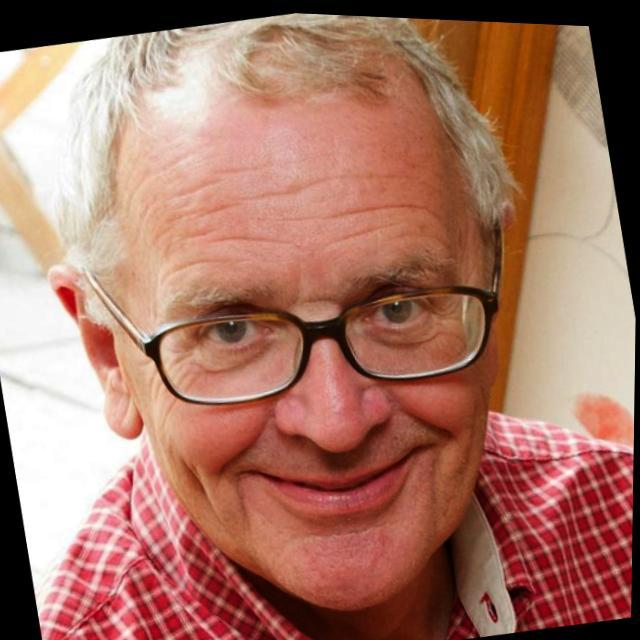Puffy Eyes - v3 Dark Circle: (195, 336, 278, 373), (366, 314, 442, 342)
